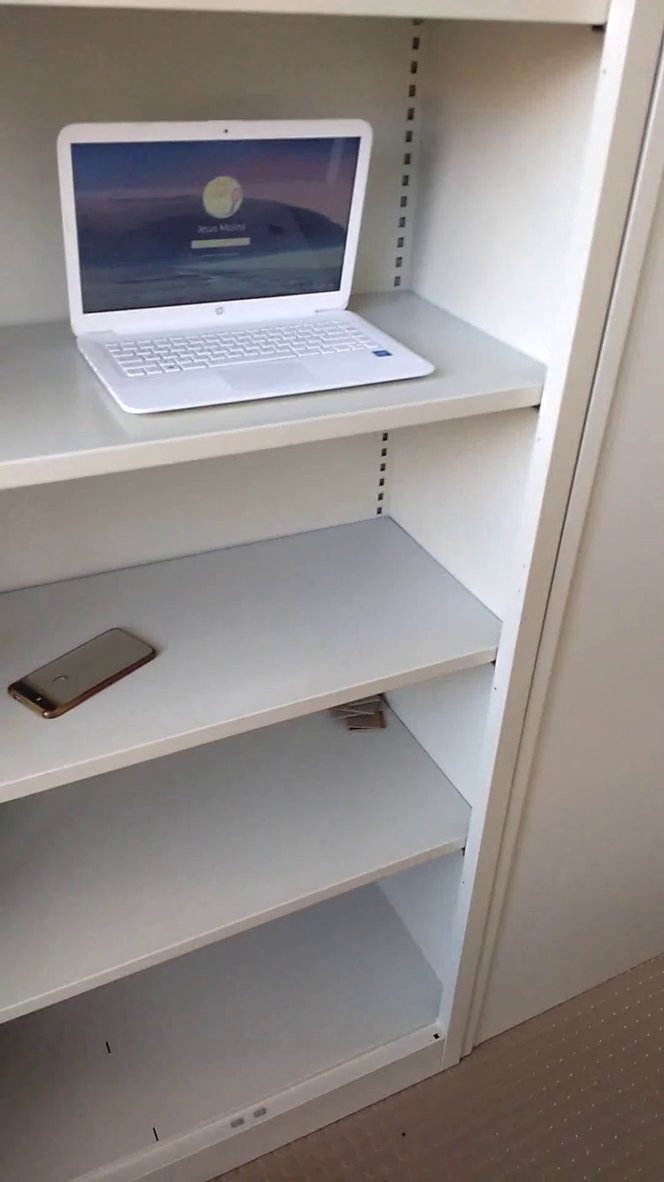laptop: (42, 102, 451, 423)
phone: (2, 620, 175, 725)
